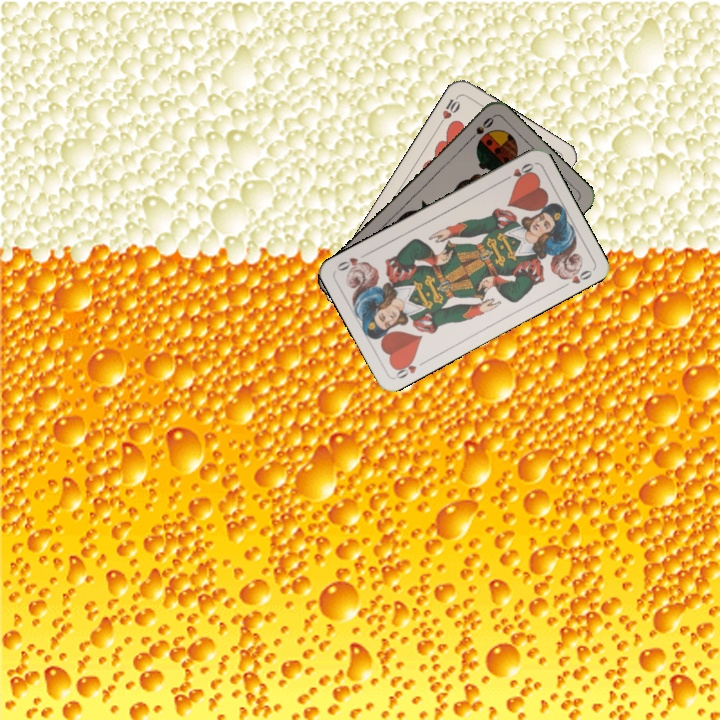H10: (435, 92, 463, 128)
HO: (390, 354, 429, 382), (499, 159, 536, 184)
SO: (464, 113, 496, 145)
